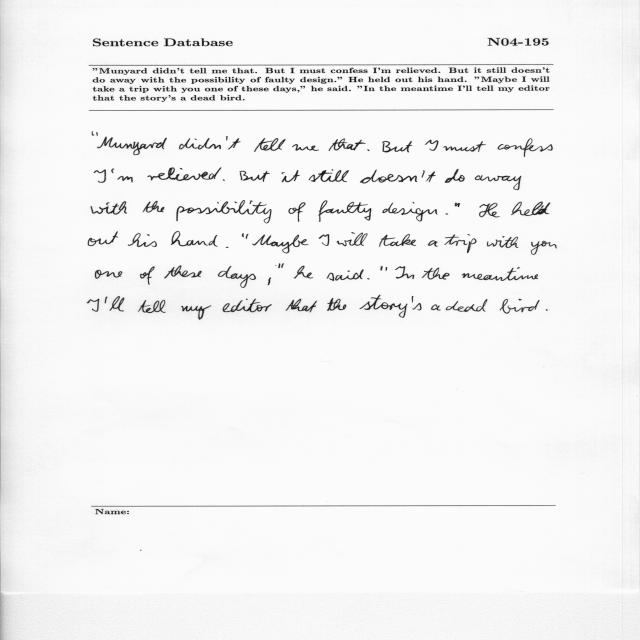word: (176, 201, 272, 224), (97, 137, 167, 155), (318, 200, 371, 222), (360, 295, 408, 318), (383, 202, 438, 222), (462, 267, 539, 281), (360, 170, 436, 184), (252, 235, 308, 254), (498, 138, 553, 157), (148, 168, 222, 181), (218, 266, 256, 288), (179, 136, 241, 149), (171, 231, 218, 247), (222, 299, 272, 313), (475, 175, 521, 190), (444, 234, 477, 253), (500, 299, 540, 314), (511, 202, 550, 216), (446, 299, 487, 312), (309, 169, 349, 182), (91, 201, 127, 215), (328, 138, 366, 151), (164, 266, 202, 279), (379, 234, 416, 247), (443, 141, 486, 152), (88, 231, 118, 246), (181, 305, 211, 320), (254, 138, 286, 152), (336, 232, 368, 246), (327, 269, 364, 281), (128, 233, 157, 247), (286, 299, 317, 312), (487, 236, 519, 248), (531, 241, 557, 255), (138, 300, 166, 313), (288, 202, 306, 222), (421, 268, 450, 280), (382, 141, 412, 152), (240, 171, 270, 182), (111, 169, 133, 183), (105, 296, 125, 311), (479, 203, 500, 217), (140, 266, 155, 285), (445, 169, 465, 183), (143, 201, 164, 213), (268, 264, 280, 285), (294, 266, 313, 279), (395, 266, 414, 279), (327, 298, 346, 311), (96, 270, 123, 279), (281, 170, 300, 182), (292, 144, 319, 151), (94, 169, 106, 183), (87, 299, 99, 312), (425, 140, 438, 151), (412, 296, 422, 310), (319, 234, 330, 246), (428, 240, 438, 247), (431, 305, 441, 311), (242, 233, 249, 239), (381, 266, 388, 271), (92, 132, 98, 136), (455, 203, 460, 207), (281, 263, 284, 268), (367, 149, 370, 151), (367, 278, 370, 280), (223, 179, 225, 181), (546, 309, 548, 311), (446, 214, 449, 215), (226, 247, 229, 248)
